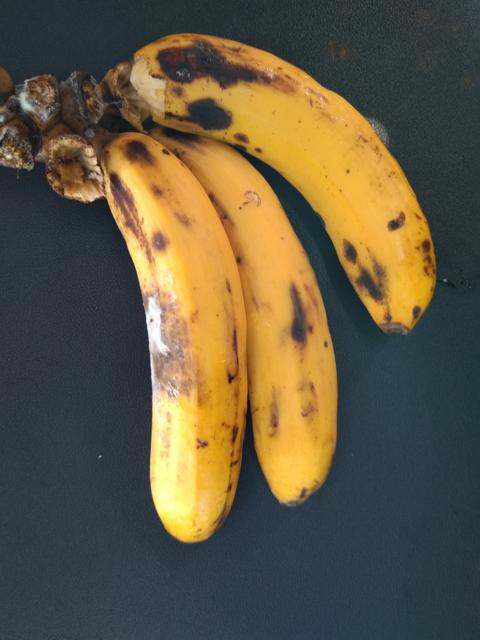overripe: (129, 25, 456, 336), (79, 128, 256, 565), (176, 135, 375, 517)
rotten: (98, 298, 223, 429)
